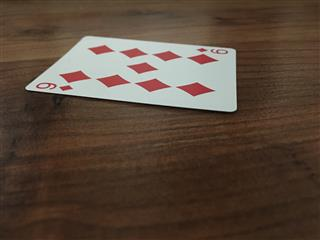NineOfDiamonds: (23, 34, 238, 113)
